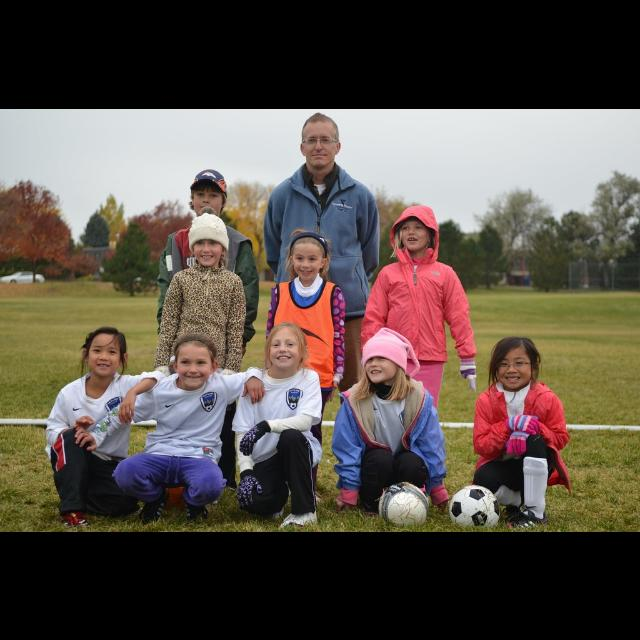Football: (373, 477, 429, 525), (446, 483, 502, 527)
